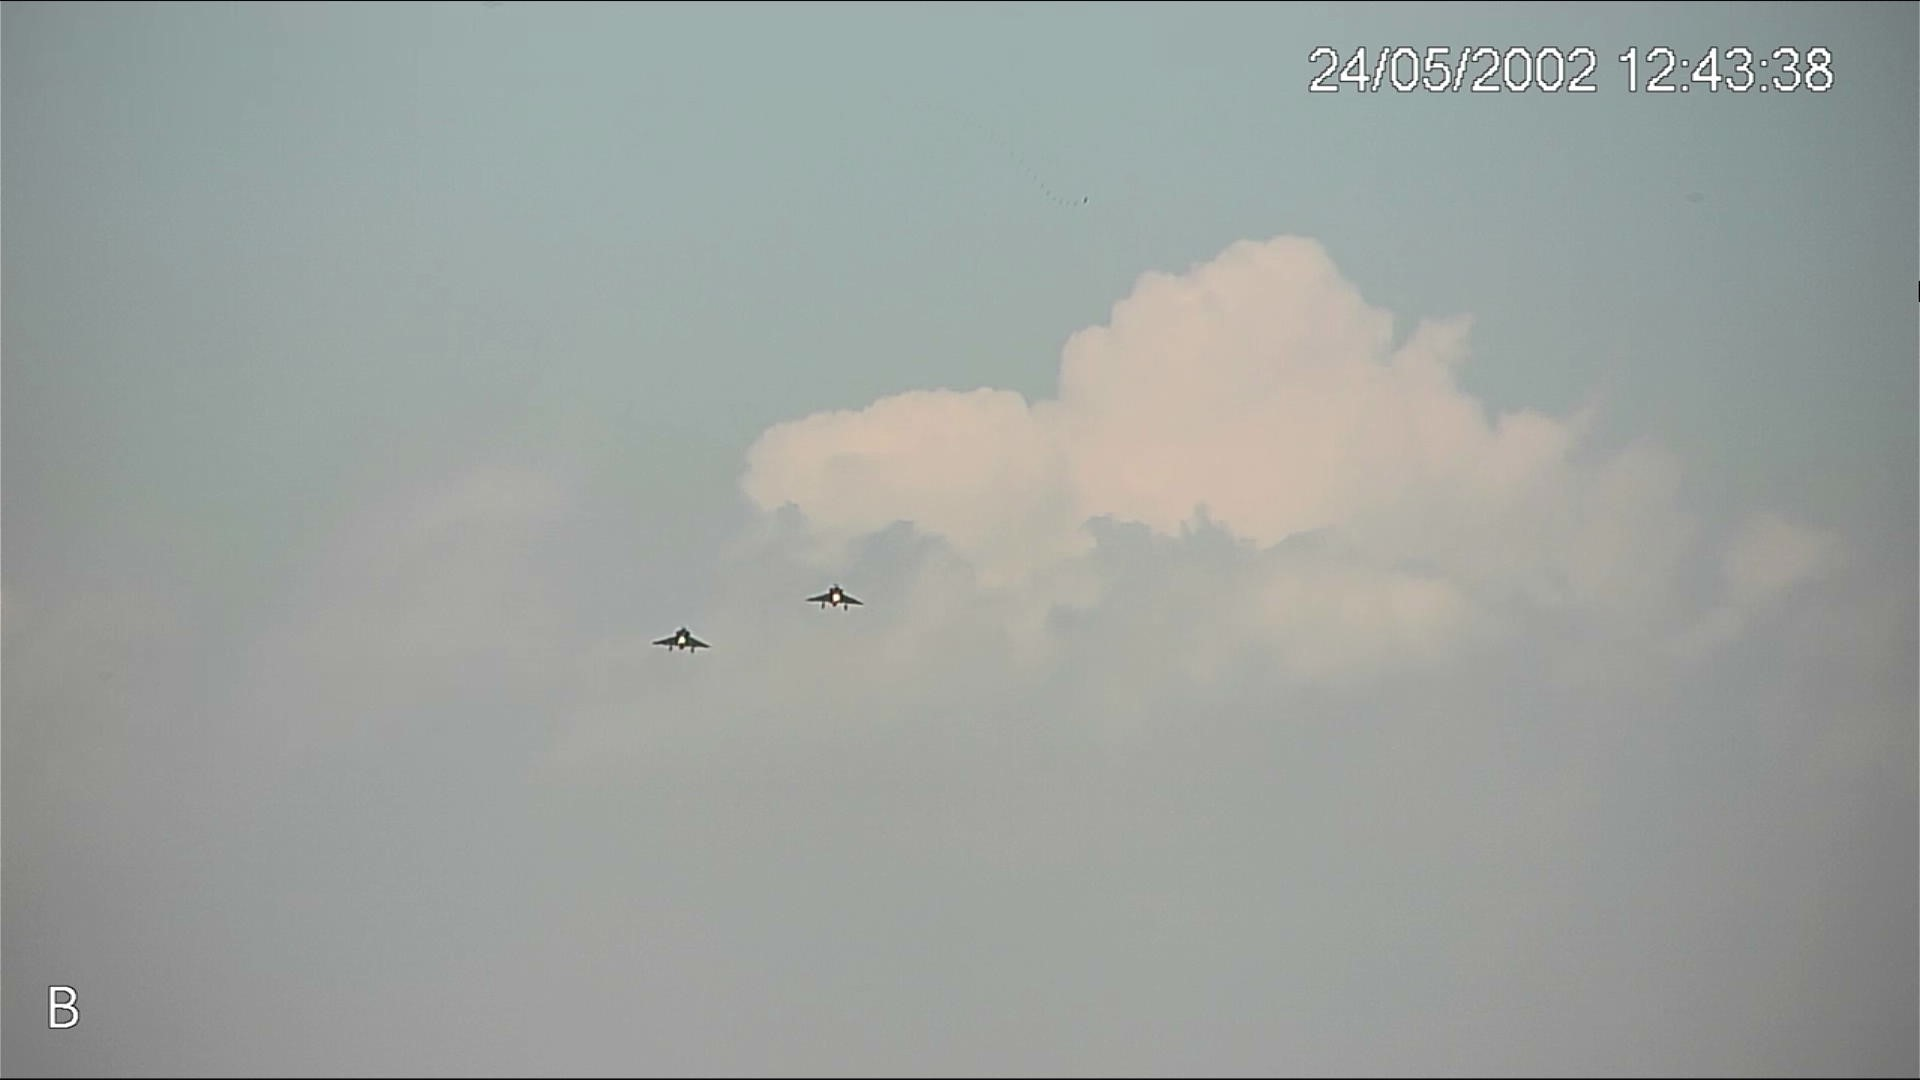SU_30: (804, 583, 865, 613), (651, 625, 712, 654)
